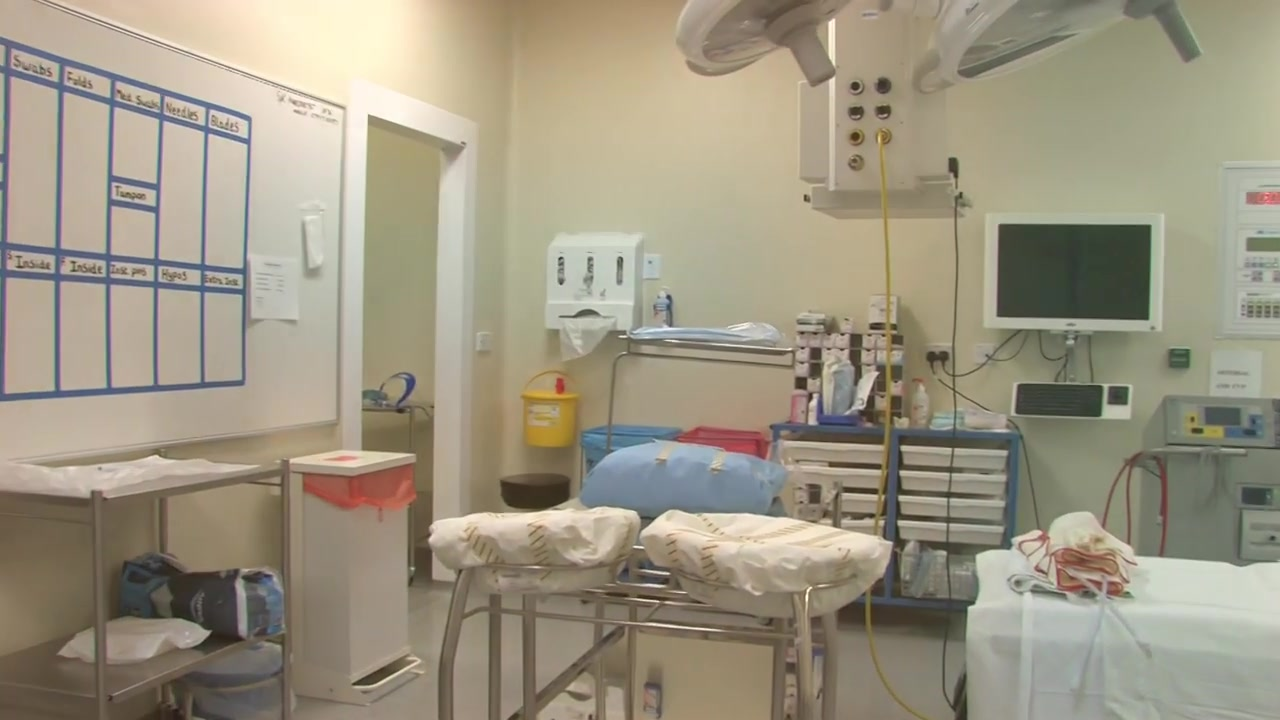chair: (499, 474, 572, 507)
computer: (983, 211, 1164, 333)
dispenser: (542, 231, 642, 362), (908, 377, 932, 430), (650, 287, 674, 329)
keyboard: (1013, 383, 1105, 418)
light_switch: (641, 251, 663, 282), (472, 329, 497, 355)
medical_drawer: (778, 424, 1023, 635)
operating_bed: (950, 513, 1280, 720)
surgical_light: (907, 1, 1206, 96), (676, 1, 863, 88)
utility_cart: (440, 508, 892, 720), (1, 446, 300, 720), (360, 392, 435, 587)
waste_bin: (285, 449, 426, 710), (581, 422, 682, 475), (676, 426, 770, 459)
